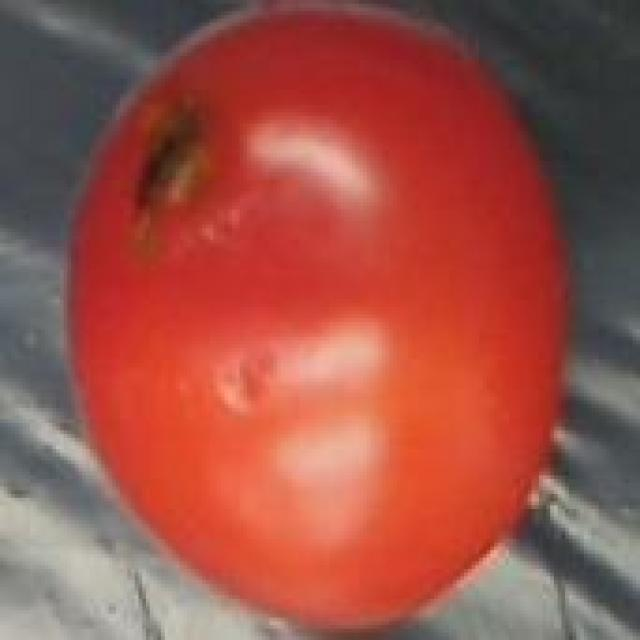overripe tomato: (67, 3, 572, 640)
